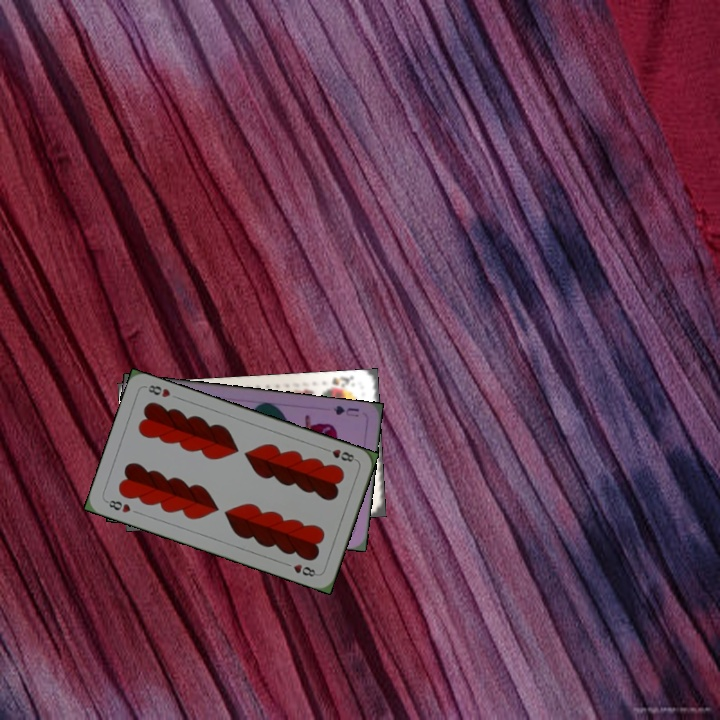GU: (329, 402, 362, 419)
H8: (320, 444, 359, 464), (102, 496, 133, 516)
SK: (322, 373, 356, 394)
